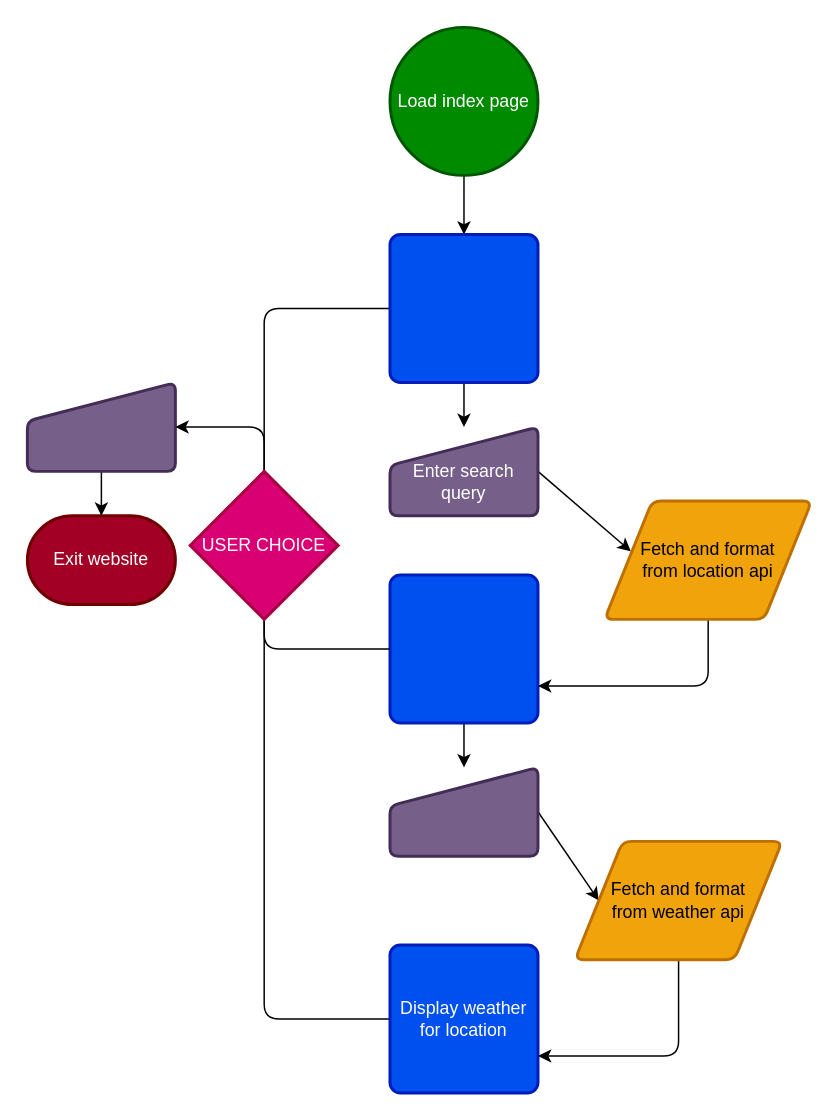
This 838x1119 diagram has some shape labels left out. The shapes that lost their labels are listed below. From the top down, each one's centre as x and y in pixels, then its label:
the point at 463,307: Go to search page
the point at 100,426: Close website
the point at 463,648: Display search result(s)
the point at 463,811: Pick desired location
